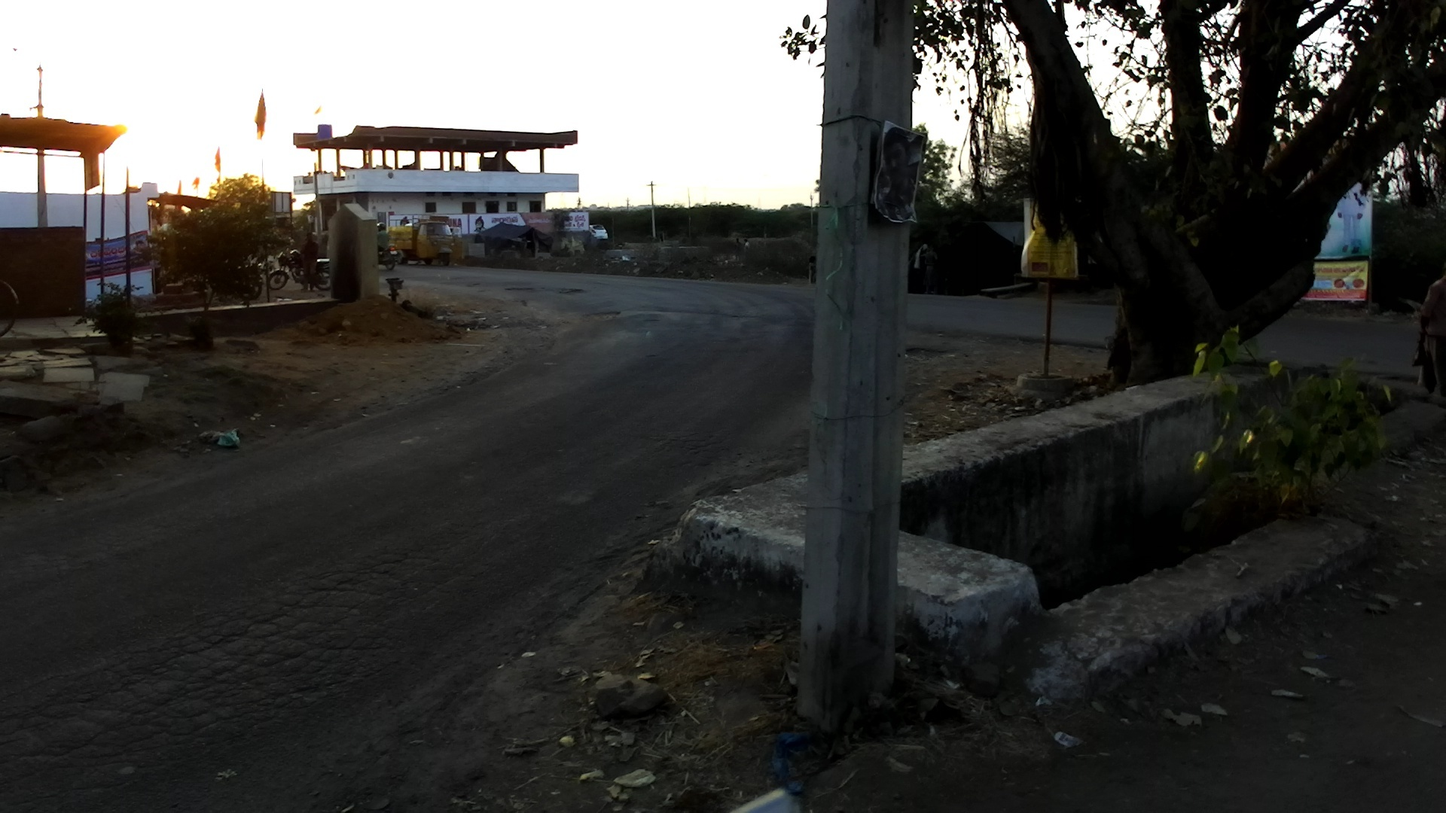autorickshaw: (387, 214, 463, 266)
bicycle: (1, 281, 20, 340)
car: (588, 224, 609, 242)
motorcycle: (267, 246, 334, 290), (378, 245, 400, 270)
person: (1408, 276, 1446, 407), (299, 231, 322, 294), (914, 241, 932, 294), (806, 254, 817, 286), (732, 236, 744, 263), (743, 237, 750, 262)
rider: (376, 221, 389, 253)
